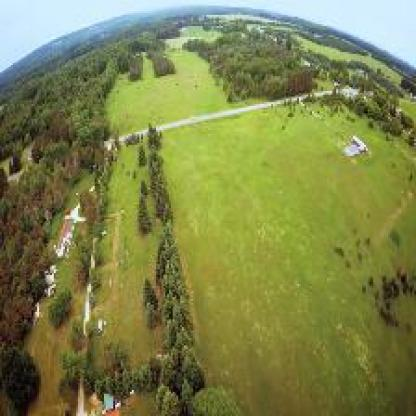other: (61, 193, 126, 403), (340, 132, 377, 162)
